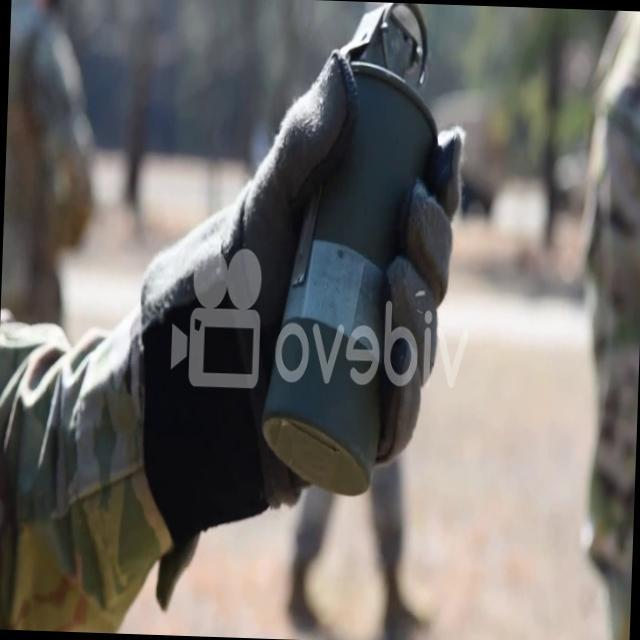grenade: (256, 1, 457, 502)
